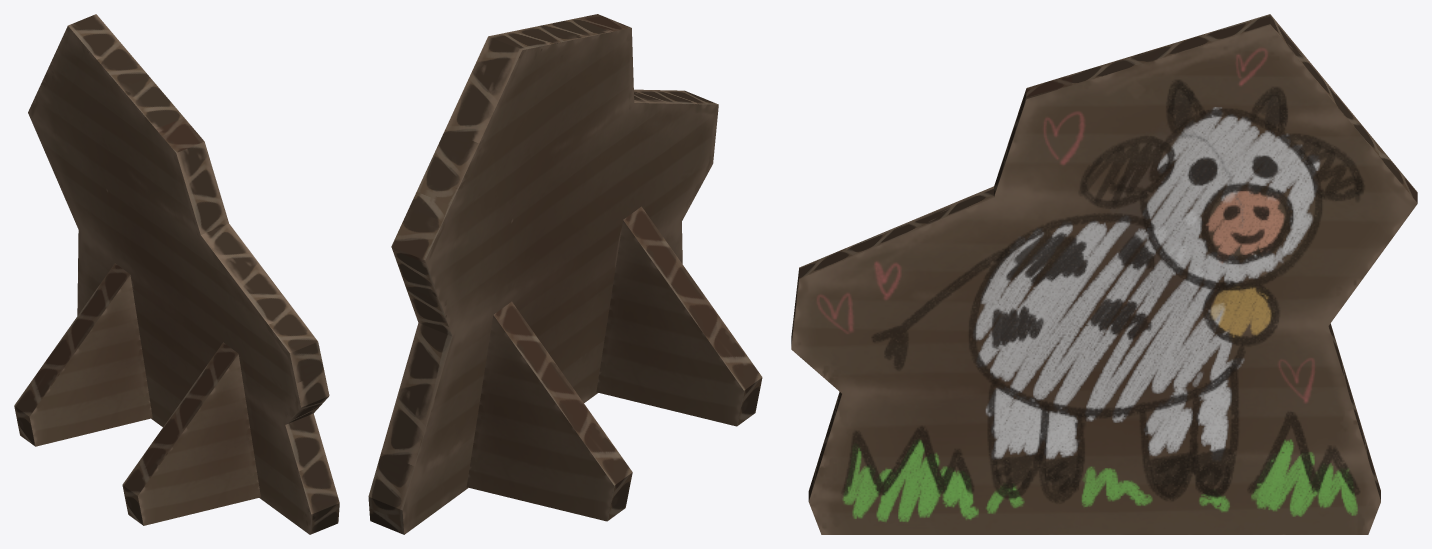
File: cow_2 1.fbx
3 views of the same model, side by side, from view 1: azimuth 30°, elevation 25°; view 2: azimuth 150°, elevation 25°; view 3: azimuth 270°, elevation 25° (orthographic). The views are drawn at different scales.
Parts seen in each view (by area): view 1: pCube20; view 2: pCube20; view 3: pCube20.
Boxes of the visible parts, x1=… form: pCube20: x1=14, y1=14, x2=339, y2=534; pCube20: x1=368, y1=14, x2=762, y2=534; pCube20: x1=791, y1=14, x2=1417, y2=534.
Size of the model in its own units: 1.04 by 2.58 by 3.05.
Materials: 1 (1 with a texture image).
